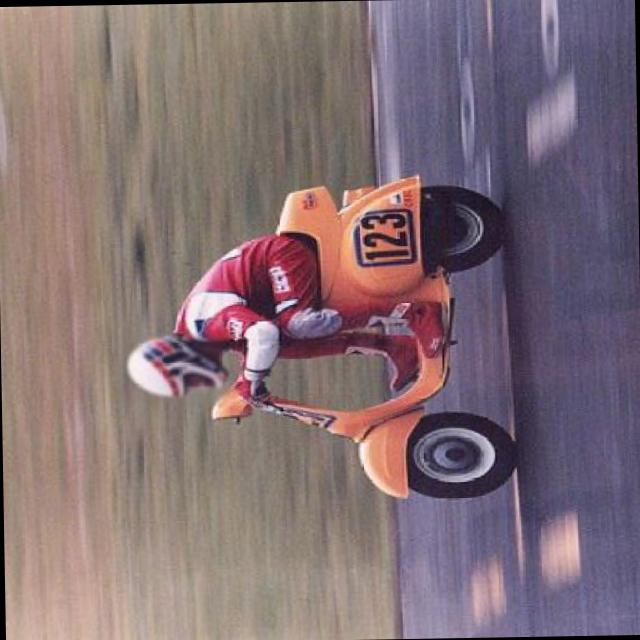With Helmet: (118, 329, 232, 405)
